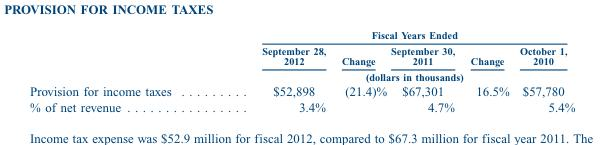table: (28, 29, 574, 113)
table column: (28, 29, 215, 113), (215, 29, 333, 113), (388, 29, 462, 113), (513, 29, 574, 113), (333, 29, 388, 113), (462, 29, 513, 113)
table column header: (28, 29, 574, 68)
table projected row header: (28, 68, 574, 83)
table row: (28, 42, 574, 68), (28, 68, 574, 83), (28, 83, 574, 98), (28, 98, 574, 113), (28, 29, 574, 42)
table spanning cell: (215, 29, 574, 42)
